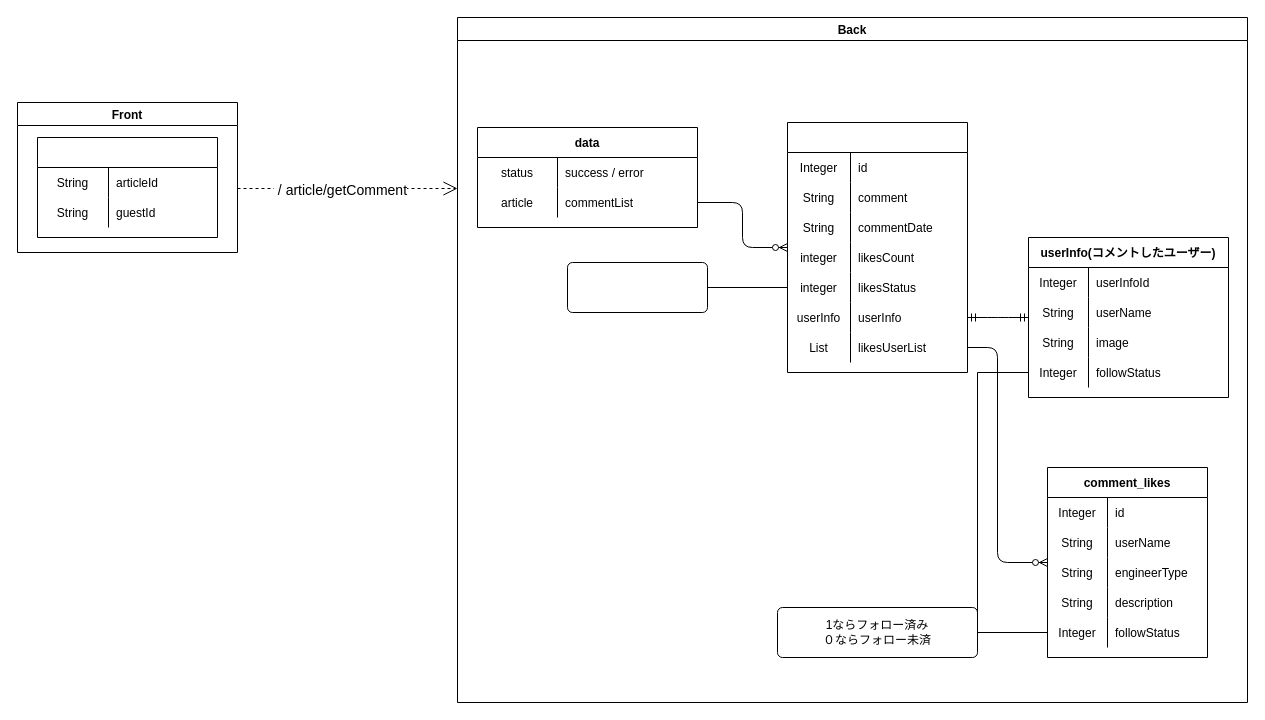
Image size: 1265x720. Some labels were removed from this diagram. The box of each missing label's shape, as (x1, y1, x2, y2) in pixels:
1ならLIKE済み ０ならLIKE未済: (566, 262, 708, 312)
comments: (786, 122, 968, 372)
Post: (36, 136, 218, 238)
